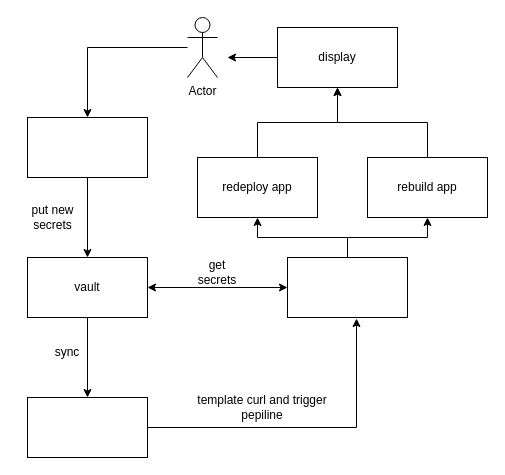
Image size: 505x475. Some labels were removed from this diagram. Each missing label, with the centre of its shape:
gitlab: pixel 347 287
update secrets: pixel 87 147
vault-agent: pixel 87 427
